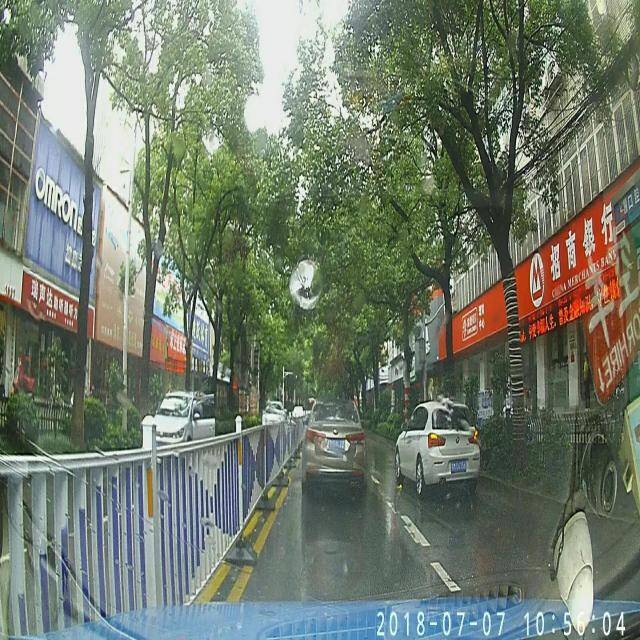car: (394, 400, 481, 496), (302, 396, 367, 494), (154, 390, 216, 459), (262, 400, 286, 430)
